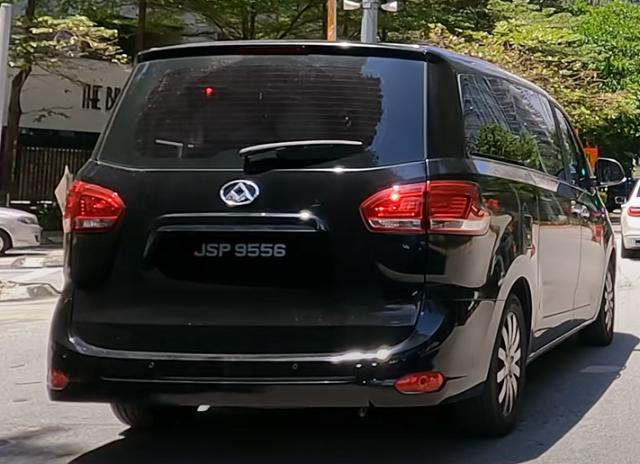License_Plate: (163, 234, 315, 270)
car: (47, 41, 624, 438)
